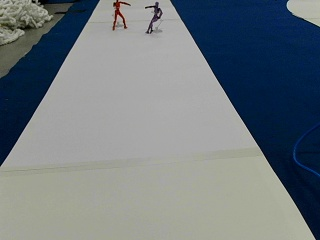pedestrian: (111, 0, 130, 30), (144, 1, 162, 32)
